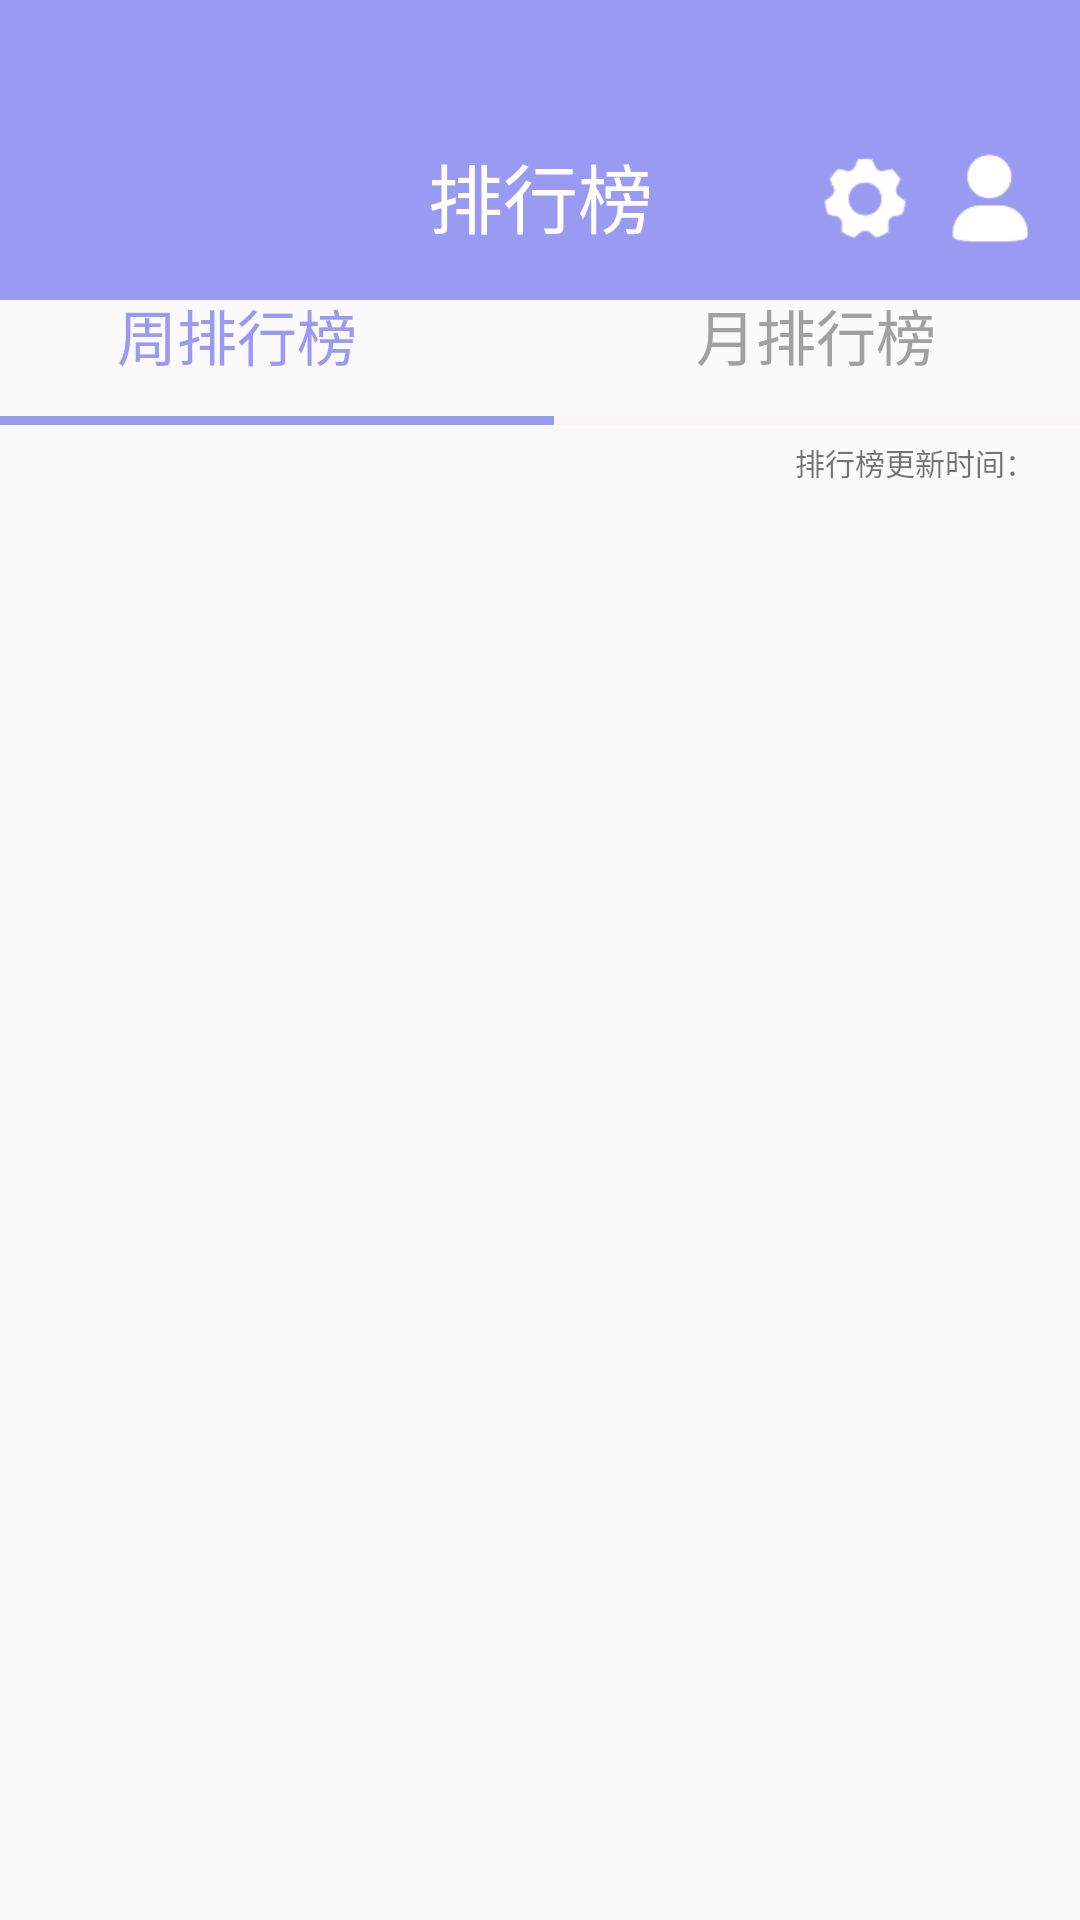

Named icons in this screenshot (1080px x 1920px) and their bounding boxes, (left=x1, top=y1, right=x2, bottom=y2):
settings: (left=824, top=159, right=906, bottom=238)
user: (left=952, top=154, right=1028, bottom=242)
